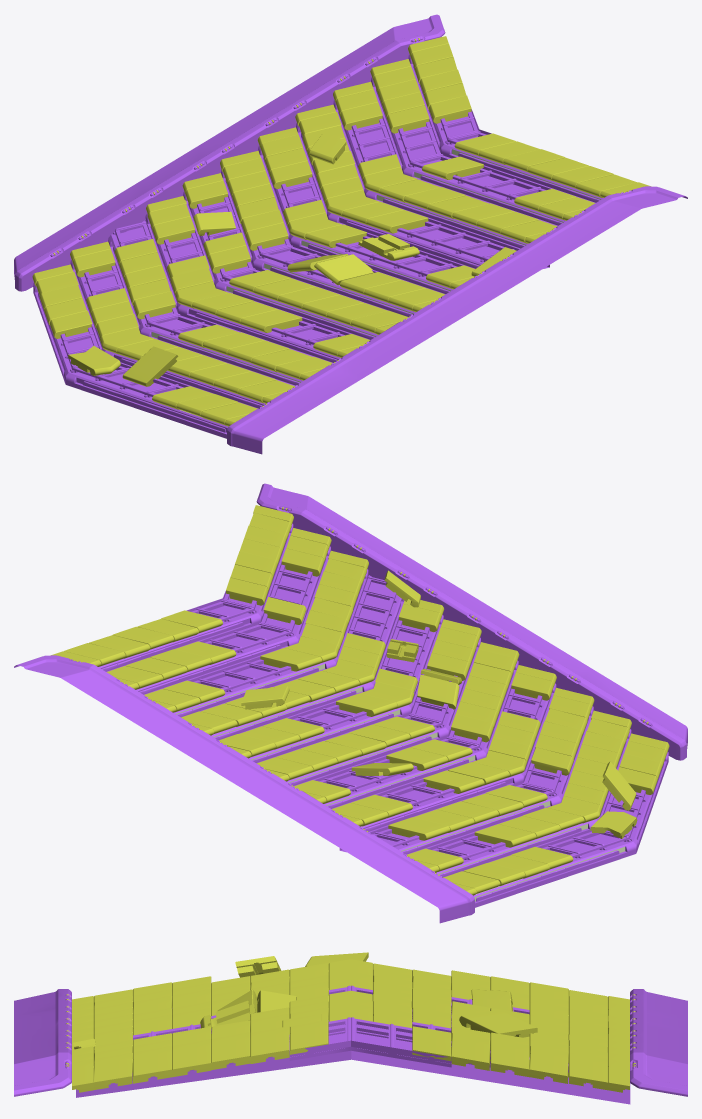
The model's file is env_Hallway_Stairs.FBX.
The picture shows the model from 3 angles, top to bottom: view 1: azimuth 30°, elevation 25°; view 2: azimuth 150°, elevation 25°; view 3: azimuth 270°, elevation 25°; orthographic projection. The views are drawn at different scales.
Parts seen in each view (by area): view 1: env_Hallway_Stairs, env_Hallway_Stairs_lights; view 2: env_Hallway_Stairs, env_Hallway_Stairs_lights; view 3: env_Hallway_Stairs, env_Hallway_Stairs_lights.
Part boxes in pixels (x1,y1,x2,y2): env_Hallway_Stairs: (14, 14, 687, 454); env_Hallway_Stairs_lights: (50, 37, 631, 408); env_Hallway_Stairs: (14, 483, 687, 923); env_Hallway_Stairs_lights: (70, 506, 651, 877); env_Hallway_Stairs: (14, 952, 687, 1104); env_Hallway_Stairs_lights: (65, 994, 636, 1069).
Bounding box in the file's own units: 952 × 290 × 822.
